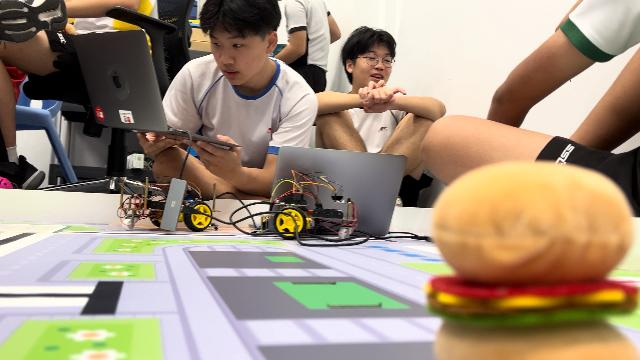burger: (420, 158, 640, 360)
